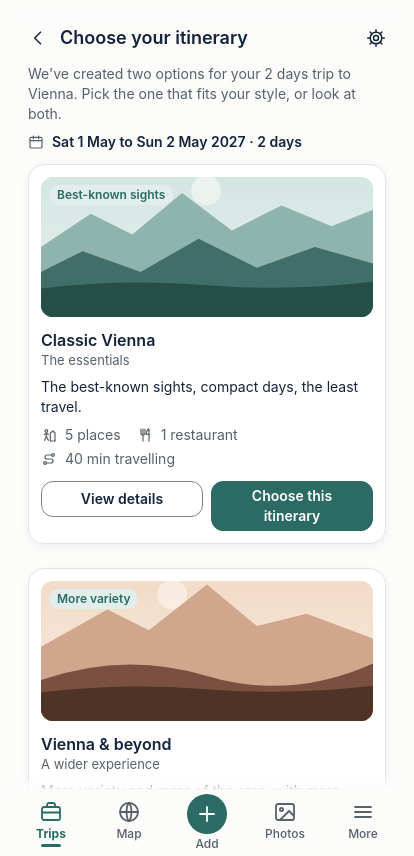
selecting a plan opens the trip's overview on it, and Back from there goes to the trips
Click the button with aria-label "Select the Essentials plan" at (292, 506), box [211,481,373,531]
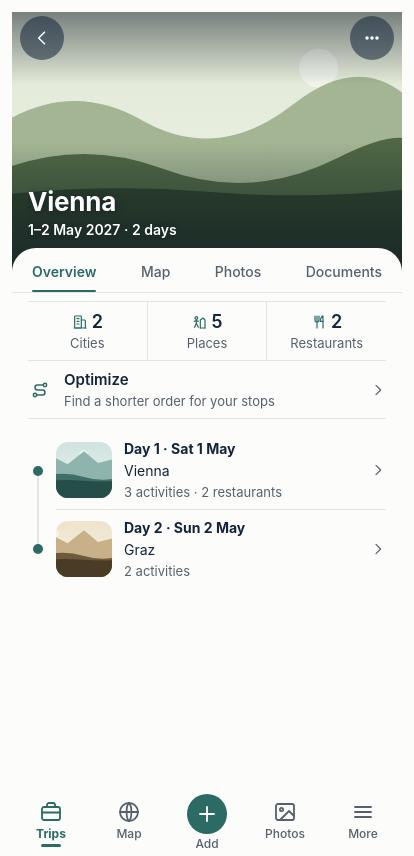
Result: the button with test id "day-row-1" is shown at [28,431,386,510]
Click the button named "Back" at (42, 38), box [20,16,64,60]
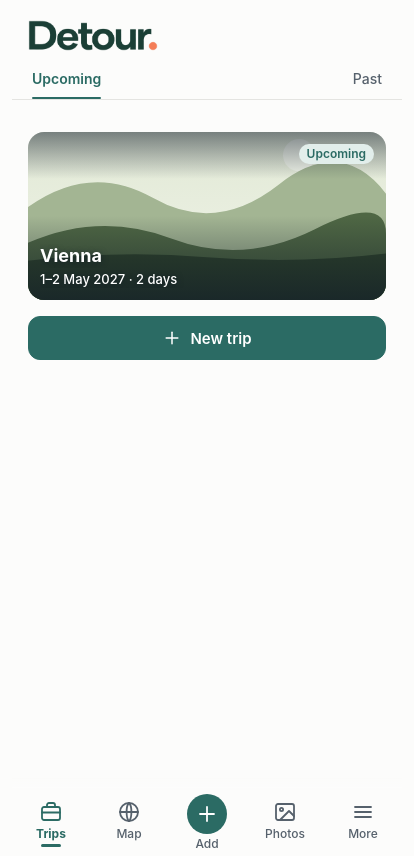
Result: the heading named "Detour" is shown at [28,20,158,51]
